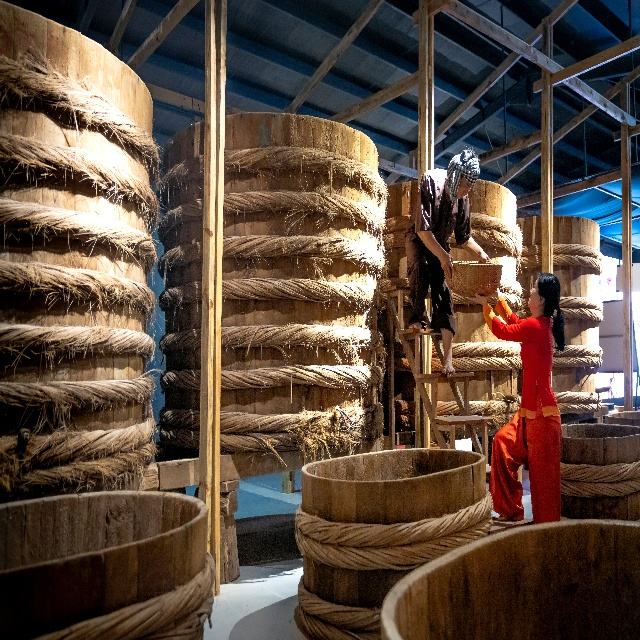Sin_guantes: (440, 250, 458, 281), (468, 292, 486, 305), (477, 250, 491, 265)
